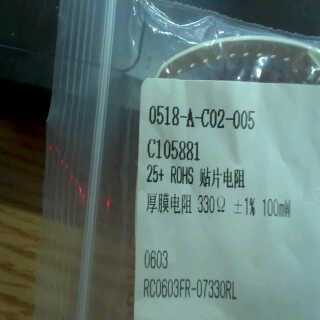330R: (194, 193, 230, 218)
